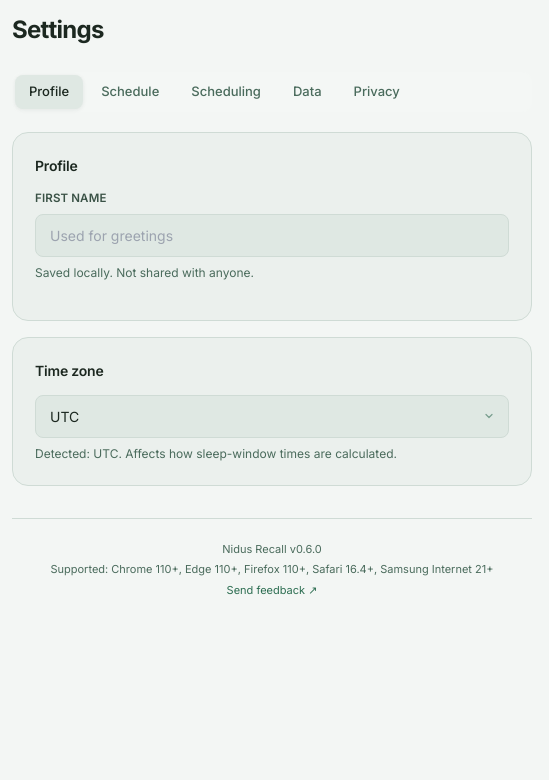
it: SettingsView — Privacy tab › Delete account requires two-step confirmation
Step 1. Click the button "Privacy" → {"x": 377, "y": 92}, box 340,75 -> 414,108
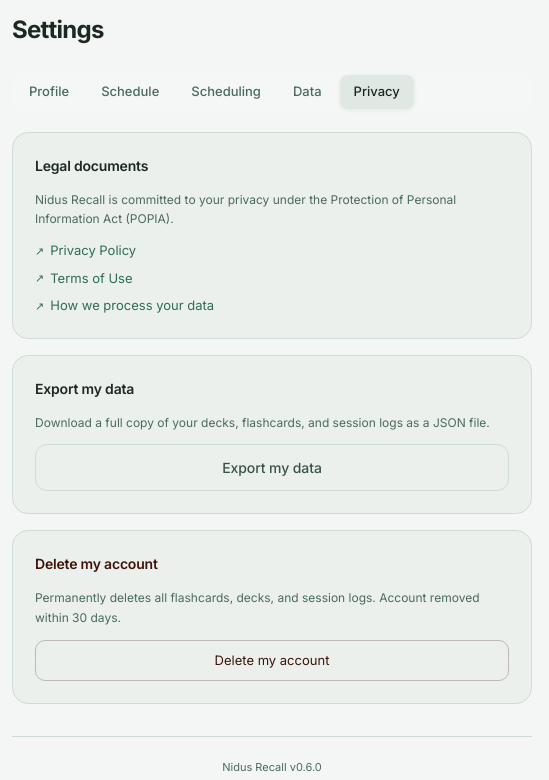
Check: the button with test id "delete-account-btn" is shown
Step 2. Click the button with test id "delete-account-btn" → {"x": 272, "y": 661}, box 35,640 -> 509,682
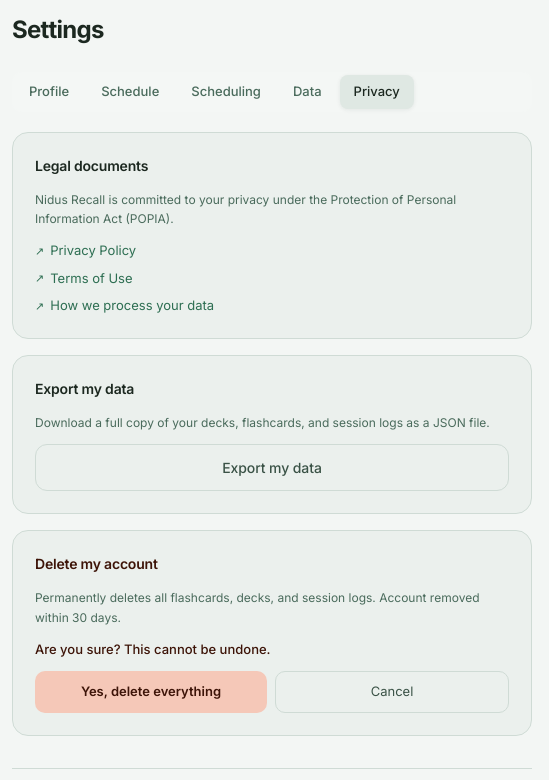
Check: the element with test id "delete-confirm-panel" is shown, box 35,640 -> 509,713
